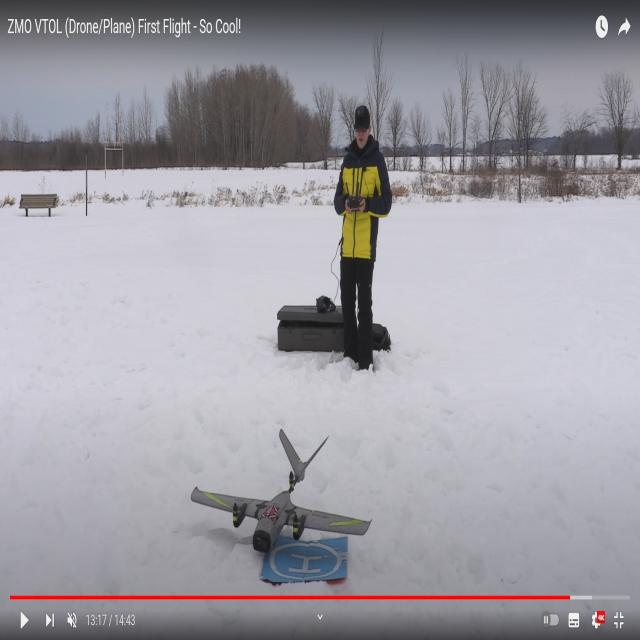iha: (191, 464, 368, 502)
